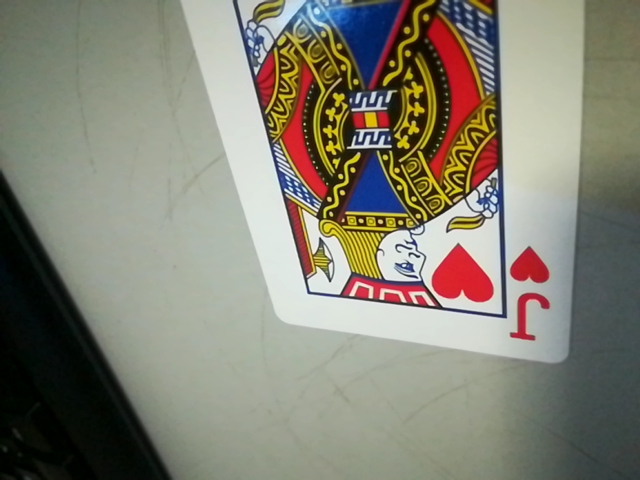hx j: (499, 242, 562, 353)
